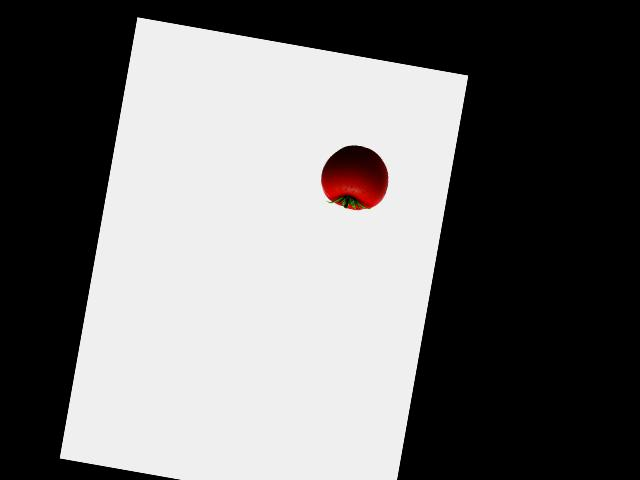tomato: (317, 140, 386, 213)
